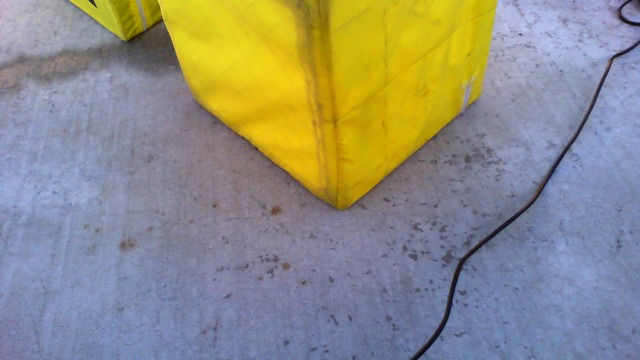cube: (153, 1, 500, 214), (62, 1, 180, 51)
